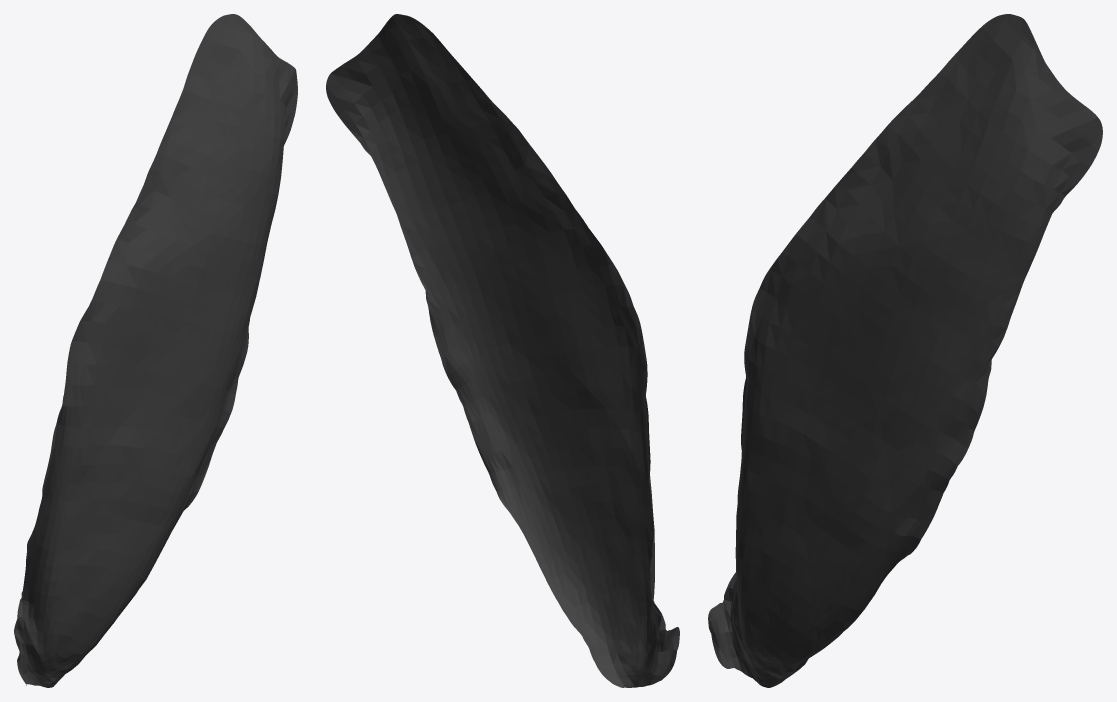
File: Deltoid_main.glb
3 views of the same model, side by side, from view 1: azimuth 30°, elevation 25°; view 2: azimuth 150°, elevation 25°; view 3: azimuth 330°, elevation 25° (orthographic). The views are drawn at different scales.
Visible parts, largest first — view 1: Deltoid_main; view 2: Deltoid_main; view 3: Deltoid_main.
Boxes of the visible parts, x1,y1,x2,y2 form: Deltoid_main: [14, 14, 297, 687]; Deltoid_main: [326, 14, 679, 687]; Deltoid_main: [708, 14, 1102, 687].
Bounding box in the file's own units: 0.1036 × 0.1959 × 0.0238.
Materials: 1 (1 with a texture image).
